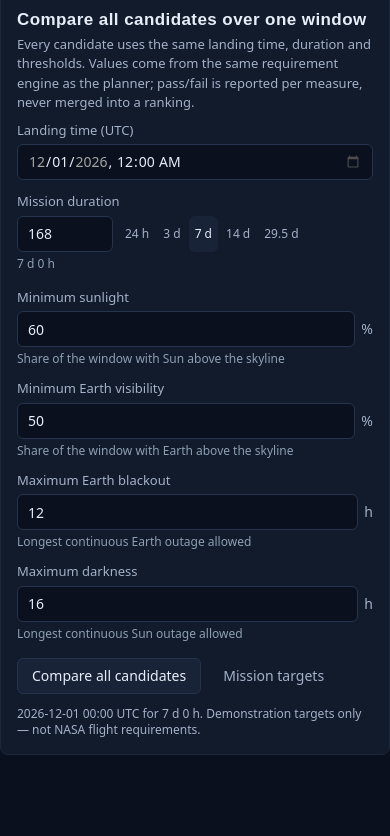
CandidateComparison › evaluates all three candidates over the same window and thresholds
Click the button "Compare all candidates".
click(109, 676)  # box [17,658,201,694]
(page scrolled)
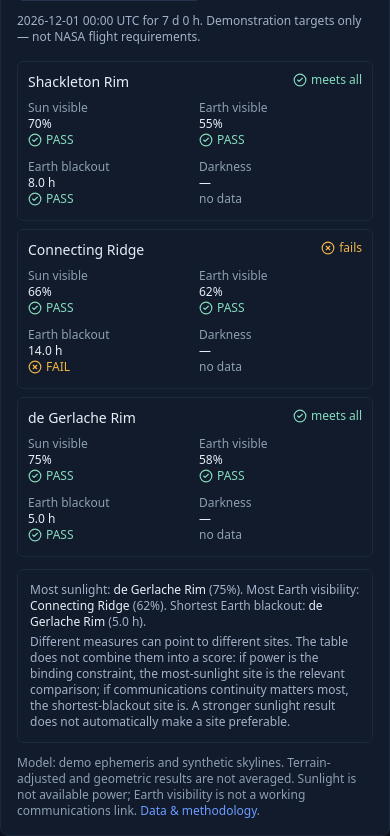
Expected: the text "Shackleton Rim" is shown, [28,72,129,92]
Expected: the text "Connecting Ridge" in the row of "fails" is shown, [28,240,144,258]
Expected: the text "de Gerlache Rim" below "14.0 h" is shown, [28,408,136,426]
